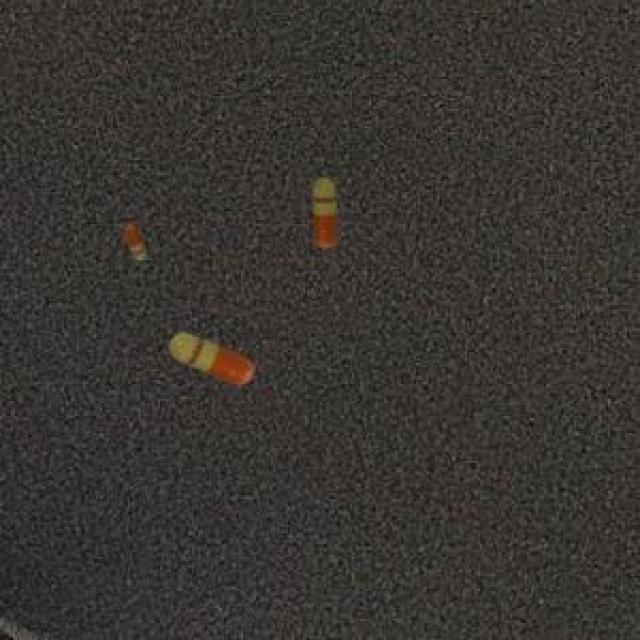Alaxan: (158, 328, 258, 390), (300, 171, 348, 257), (116, 214, 156, 268)
